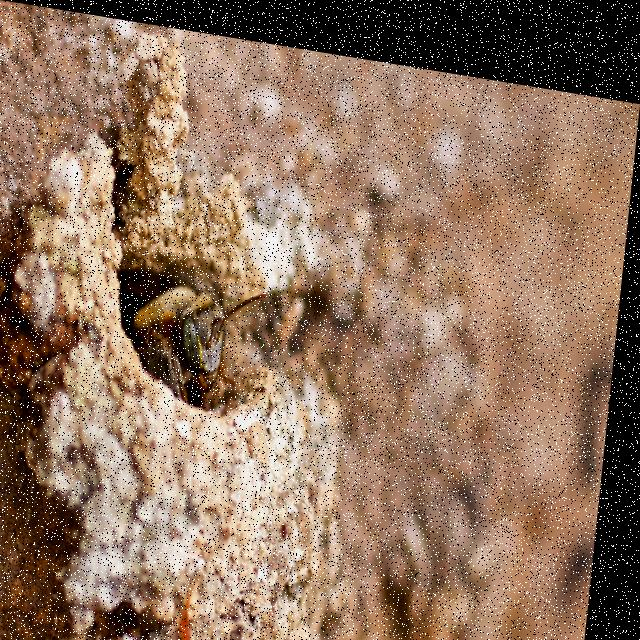Meliponula: (134, 263, 279, 394)
